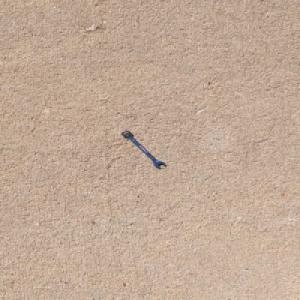Wrench: (121, 130, 166, 168)
